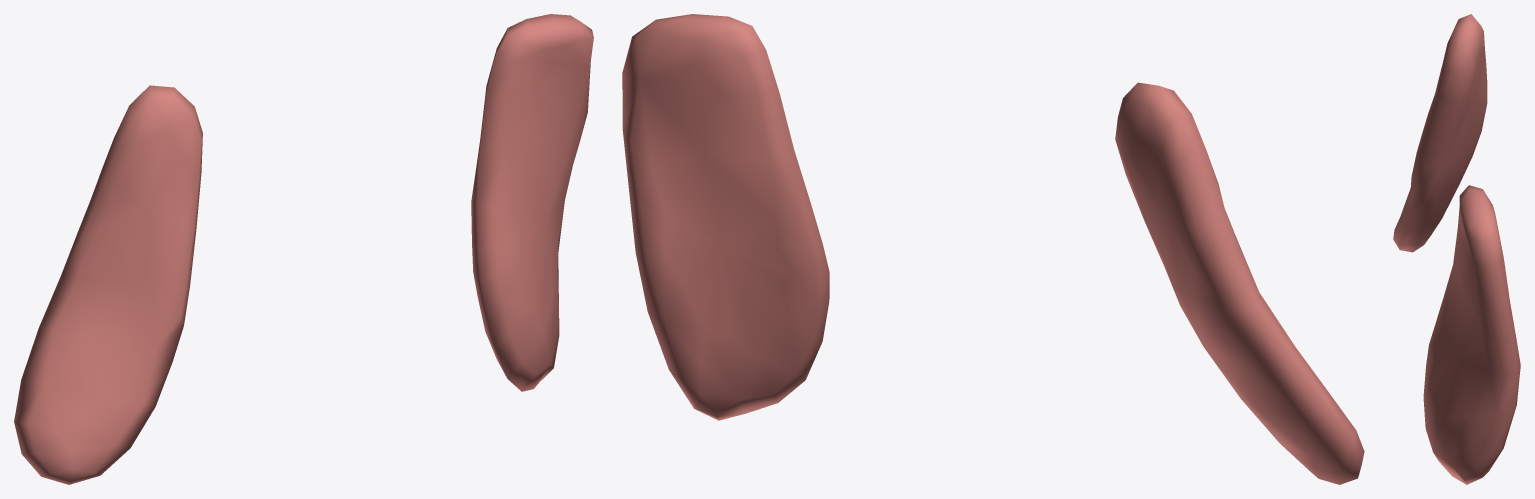
The picture shows the model from 3 angles, left to right: view 1: azimuth 30°, elevation 25°; view 2: azimuth 150°, elevation 25°; view 3: azimuth 270°, elevation 25°; orthographic projection. The views are drawn at different scales.
Visible parts, largest first — view 1: ZA_a4e33416e06d56d6; view 2: ZA_a4e33416e06d56d6; view 3: ZA_a4e33416e06d56d6.
Boxes of the visible parts, left/top/right/bottom form: ZA_a4e33416e06d56d6: left=14, top=14, right=593, bottom=484; ZA_a4e33416e06d56d6: left=622, top=14, right=1364, bottom=484; ZA_a4e33416e06d56d6: left=1393, top=14, right=1520, bottom=484.
Size of the model in its own units: 0.00782 by 0.00479 by 0.00175.
